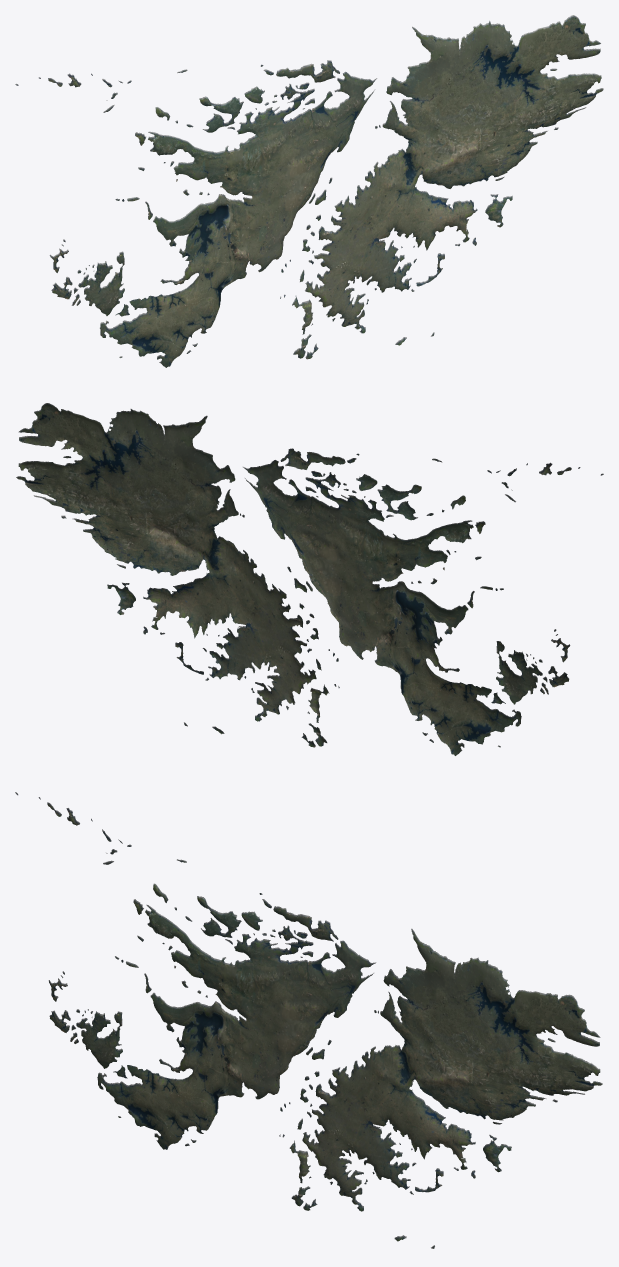
File: malvinafinal_low.fbx
3 renders of one model, top to bottom at view 1: azimuth 30°, elevation 25°; view 2: azimuth 150°, elevation 25°; view 3: azimuth 330°, elevation 25°, orthographic.
Parts seen in each view (by area): view 1: malvinas_low; view 2: malvinas_low; view 3: malvinas_low.
Boxes of the visible parts, x1,y1,x2,y2 form: malvinas_low: [15, 15, 603, 367]; malvinas_low: [16, 403, 603, 755]; malvinas_low: [15, 792, 602, 1248].
Bounding box in the file's own units: 188 × 109 × 3.37.
1 material, 1 textured.
